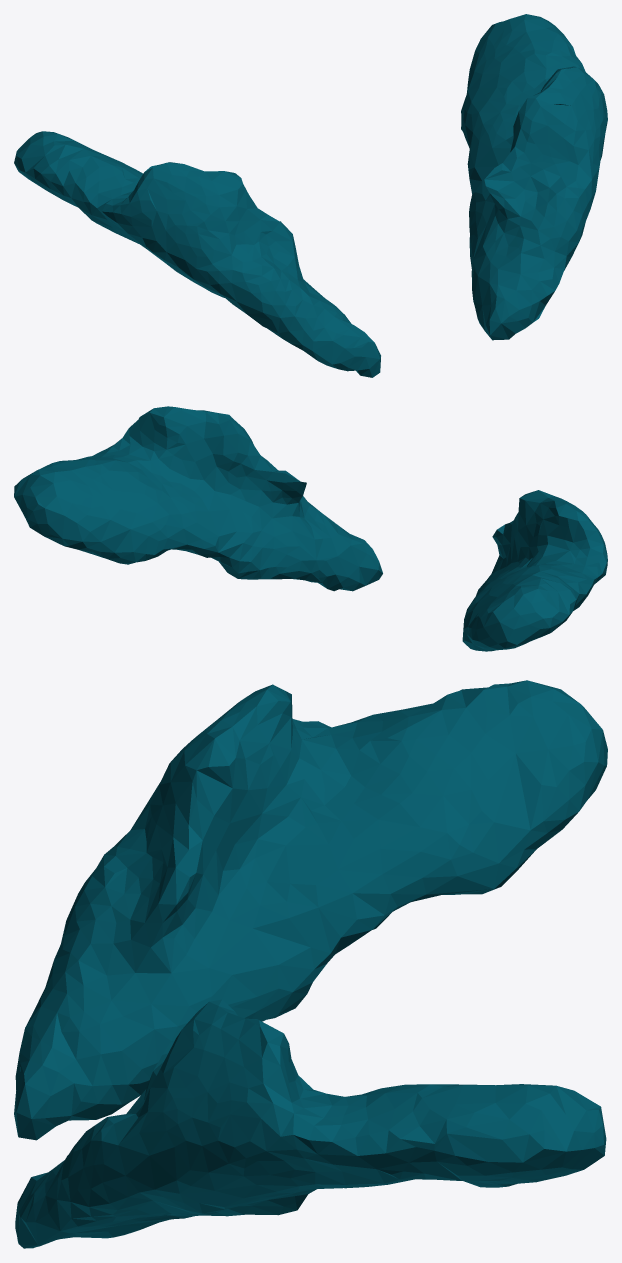
The model's file is 49-46D-area 46D of cortex-('0.0000', '0.4196', '0.4980').obj.
The picture shows the model from 3 angles, top to bottom: view 1: azimuth 30°, elevation 25°; view 2: azimuth 150°, elevation 25°; view 3: azimuth 270°, elevation 25°; orthographic projection. The views are drawn at different scales.
Bounding box in the file's own units: 189 × 64.83 × 104.
